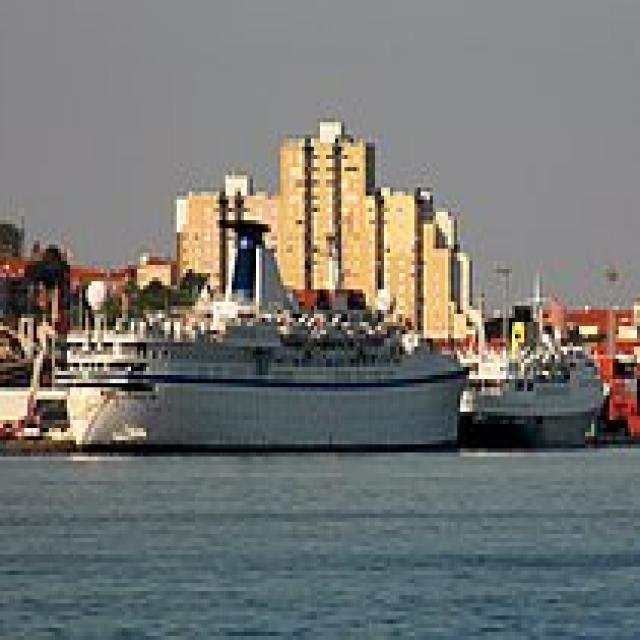Ship: (38, 217, 492, 470)
